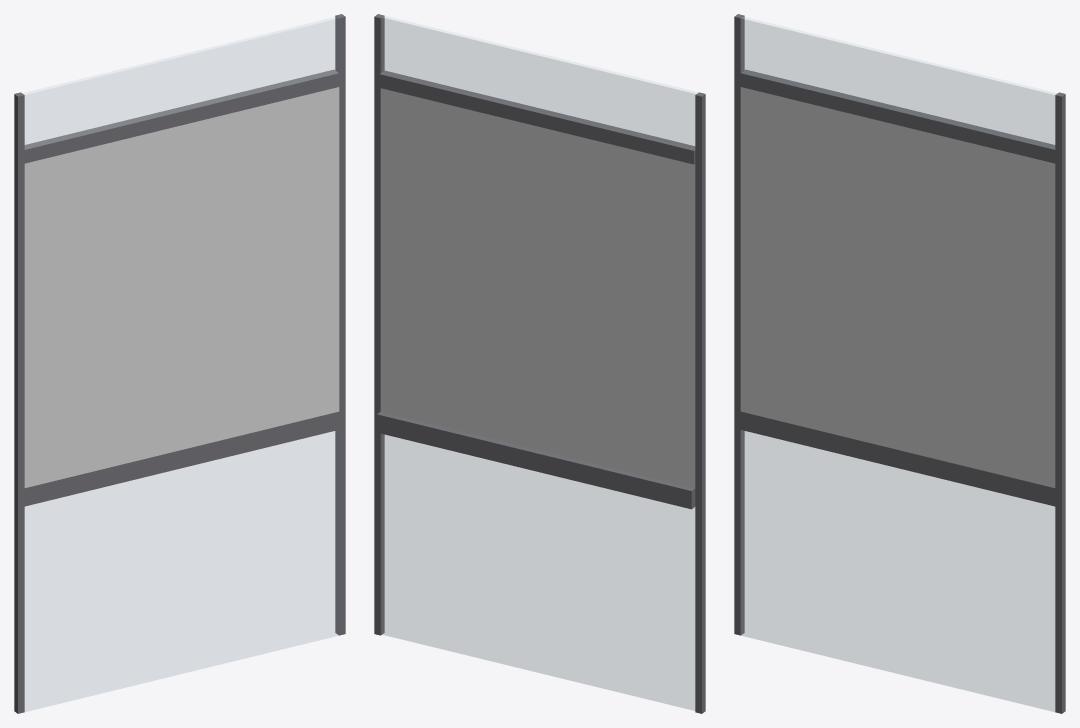
Rendered from glass_casement_150.glb.
The picture shows the model from 3 angles, left to right: view 1: azimuth 30°, elevation 25°; view 2: azimuth 150°, elevation 25°; view 3: azimuth 330°, elevation 25°; orthographic projection.
Parts seen in each view (by area): view 1: glass_casement_150, UCL_glass_casement_150_07; view 2: glass_casement_150, UCL_glass_casement_150_07; view 3: glass_casement_150, UCL_glass_casement_150_07.
Boxes of the visible parts, x1,y1,x2,y2 form: glass_casement_150: [14, 14, 345, 713]; UCL_glass_casement_150_07: [24, 87, 339, 487]; glass_casement_150: [374, 14, 705, 713]; UCL_glass_casement_150_07: [380, 88, 695, 487]; glass_casement_150: [734, 14, 1065, 713]; UCL_glass_casement_150_07: [740, 87, 1055, 487].
Size of what is drawn, in the model's own units: 1.5 by 2.7 by 0.06.
